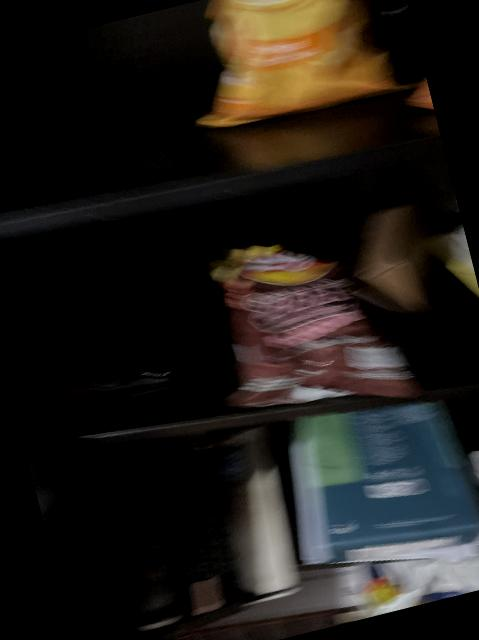Lays Beef Grilled Ribs 125g: (187, 216, 427, 442)
